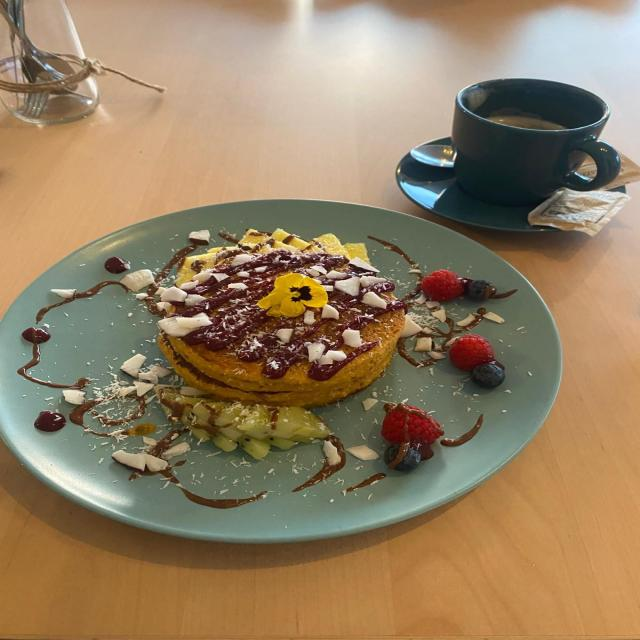blueberries: (383, 442, 434, 472), (470, 361, 503, 389)
cake: (151, 230, 407, 407)
coffee: (486, 110, 565, 130)
coffee cup: (452, 79, 619, 205)
plate: (0, 199, 562, 543), (395, 137, 554, 232)
spoon: (410, 137, 455, 169)
strawberry: (420, 270, 515, 302), (382, 403, 443, 447), (448, 334, 494, 370)
